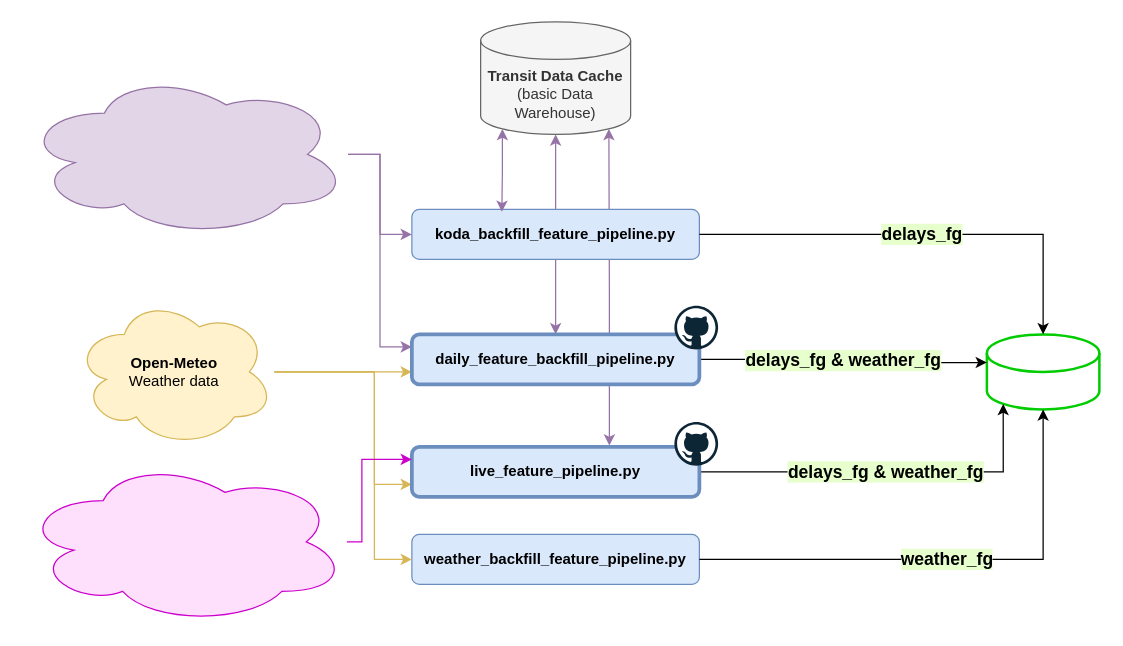
The diagram is 1123 pixels wide and 646 high, and some of its shapes have lost their labels. Each missing label, with the centre of its shape:
"Feature Store" belongs at point (1042, 371).
"GTFS-Regional Realtime transit data (delays) Static Data (routes, timetable)" belongs at point (184, 541).
"KoDa Realtime transit data (delays) Static Data (routes, timetable)" belongs at point (185, 154).
